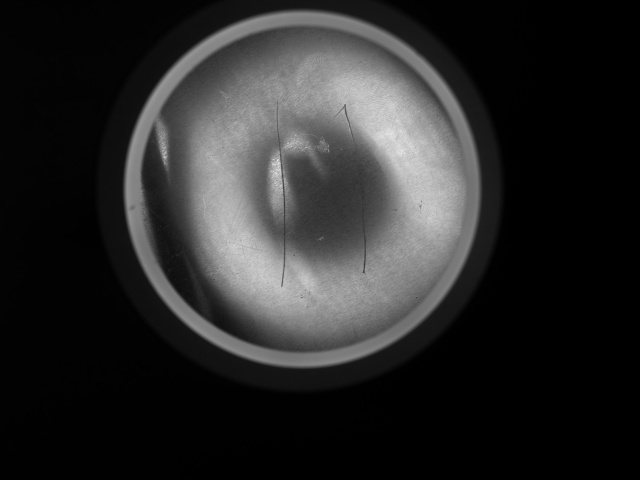ca_shang: (330, 101, 380, 279), (268, 98, 292, 287)
